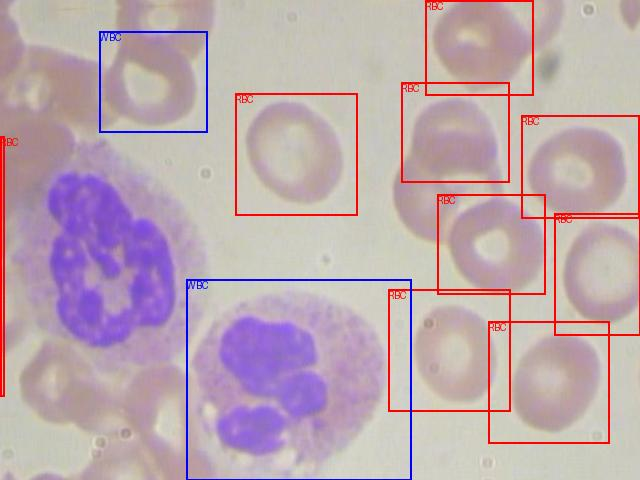RBC: (235, 93, 357, 215), (388, 289, 510, 411), (488, 321, 609, 443), (521, 115, 639, 218), (437, 194, 545, 294), (401, 82, 509, 182), (554, 213, 640, 335), (425, 0, 533, 95), (0, 136, 4, 396)
WBC: (186, 279, 411, 480), (99, 31, 207, 132)
